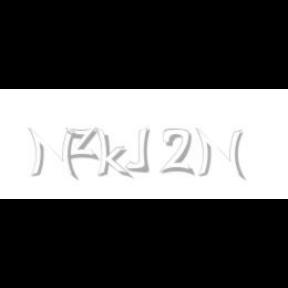2: (159, 128, 193, 176)
J: (124, 128, 150, 172)
N: (194, 128, 243, 180), (28, 128, 76, 180)
k: (95, 128, 133, 180)
z: (65, 128, 101, 160)
